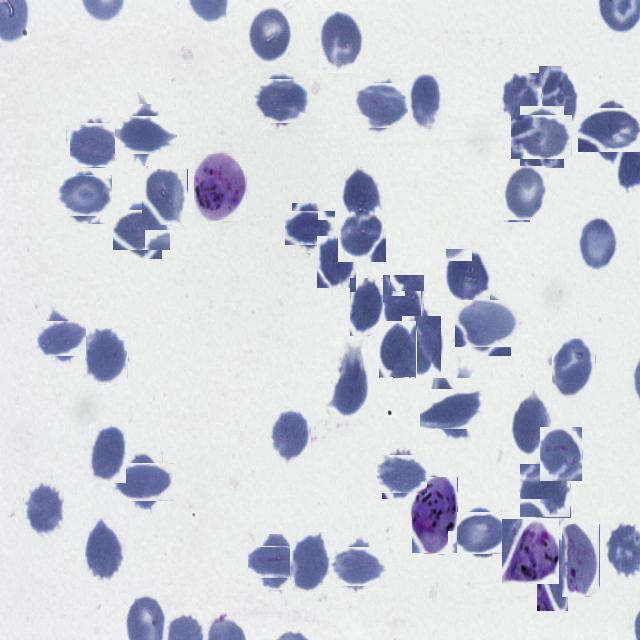difficult: (412, 477, 458, 554), (194, 154, 246, 221)
red blood cell: (460, 296, 516, 352), (584, 102, 640, 158), (319, 11, 364, 73), (516, 110, 568, 163), (520, 464, 571, 518), (426, 384, 478, 436), (85, 517, 125, 584), (246, 6, 292, 64), (539, 66, 578, 134), (383, 275, 425, 338), (552, 338, 596, 398), (142, 169, 188, 226), (256, 76, 308, 126), (510, 392, 550, 457), (446, 248, 491, 304), (331, 352, 369, 418), (69, 120, 119, 170), (119, 456, 169, 506), (358, 80, 408, 130), (120, 110, 170, 160), (290, 532, 330, 594), (504, 166, 547, 223), (85, 328, 128, 385), (537, 532, 568, 611), (402, 316, 441, 378), (60, 171, 109, 220), (338, 212, 386, 262), (540, 427, 583, 482), (334, 542, 382, 590), (457, 508, 505, 556), (118, 206, 166, 254), (23, 482, 64, 538), (408, 71, 445, 133), (271, 408, 311, 463), (89, 424, 126, 483), (379, 321, 417, 378), (579, 216, 618, 270), (342, 168, 381, 222), (350, 278, 386, 336), (317, 236, 356, 288), (253, 540, 298, 584), (379, 452, 424, 496), (502, 73, 542, 122), (288, 207, 331, 249), (41, 316, 82, 359)
ring: (562, 524, 600, 597)
trophozoite: (502, 519, 559, 584)
